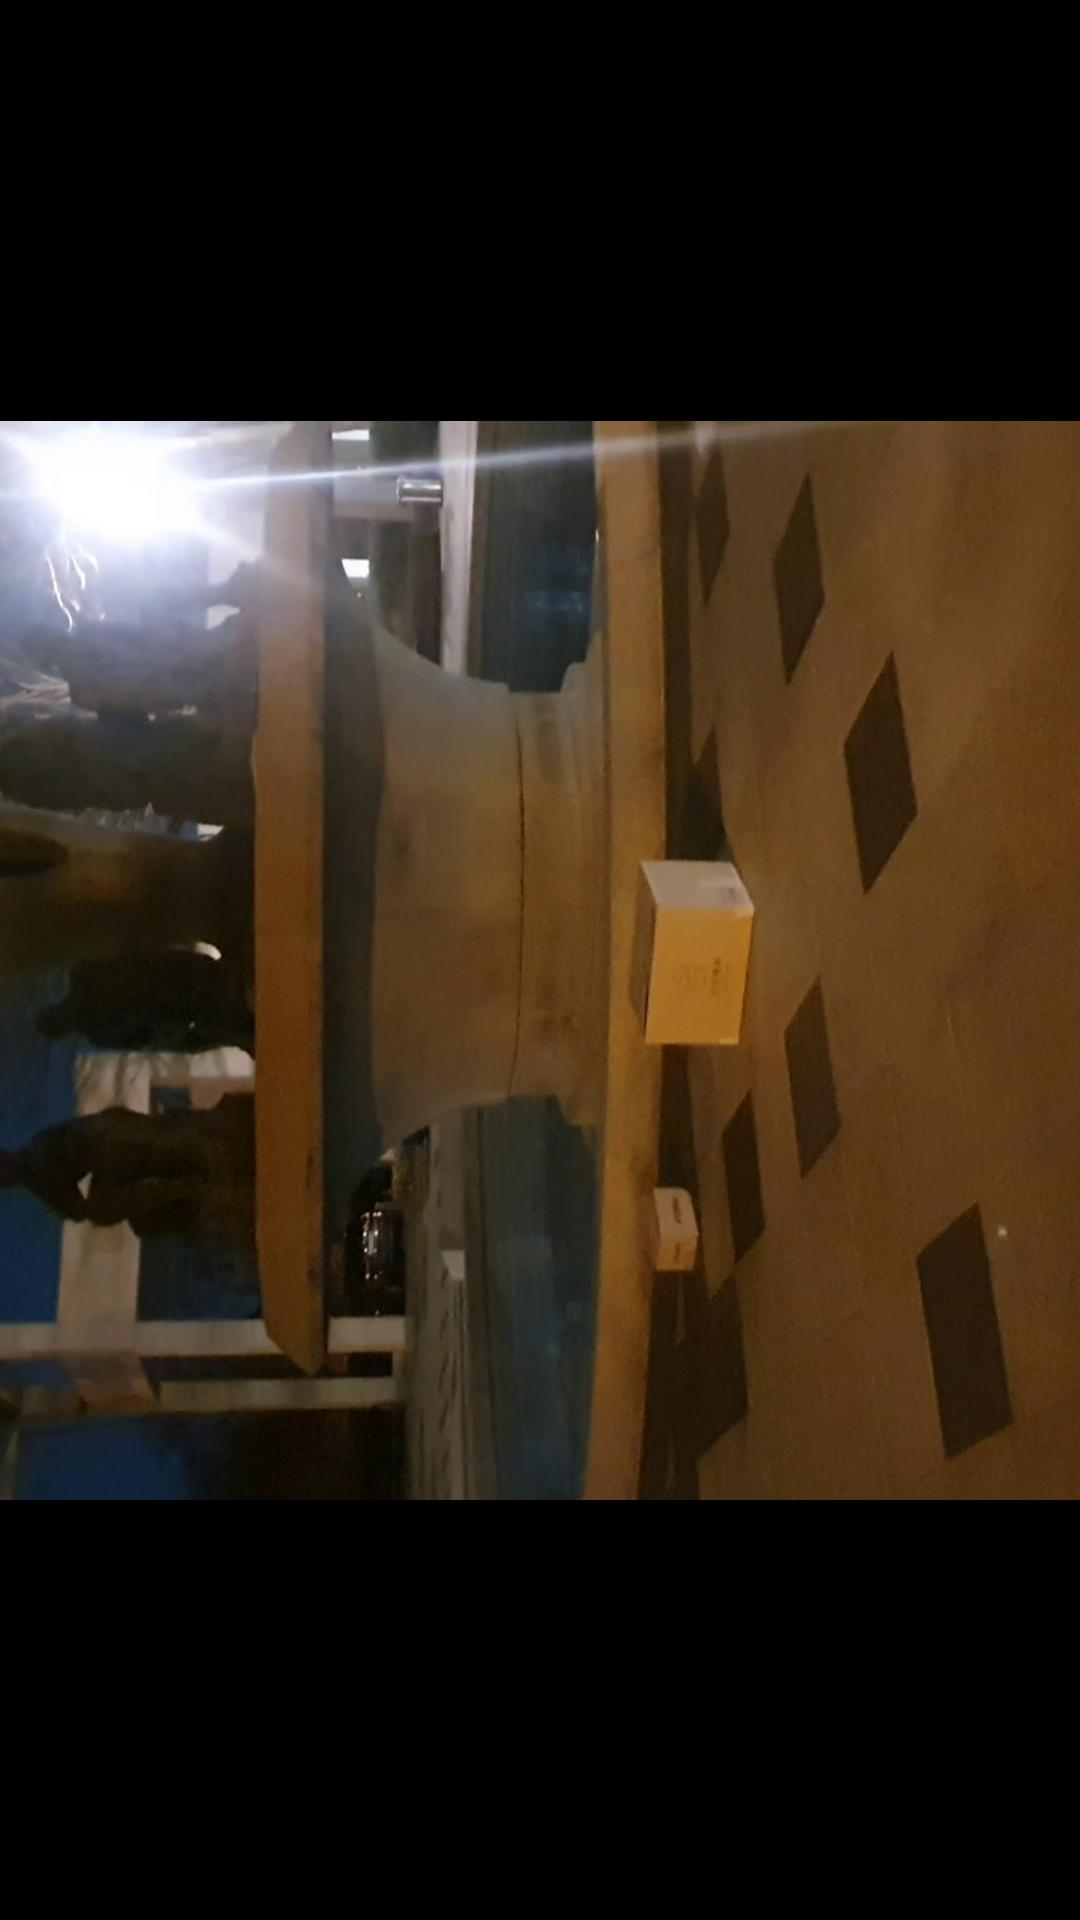Box: (628, 851, 764, 1058), (636, 1185, 705, 1302)
